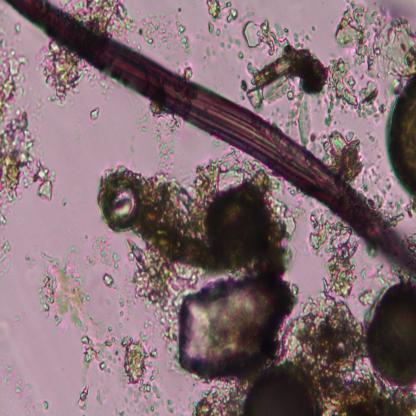Background material: (276, 209, 416, 416), (160, 265, 304, 411), (138, 150, 290, 287), (233, 9, 329, 151), (328, 0, 416, 122), (0, 37, 56, 213), (75, 329, 161, 416), (41, 240, 92, 349), (118, 234, 174, 324), (321, 122, 376, 198), (142, 105, 180, 178), (146, 3, 193, 58), (36, 47, 82, 103), (79, 0, 136, 37), (0, 371, 38, 412), (207, 0, 231, 52), (89, 240, 116, 286), (0, 235, 9, 276), (178, 61, 193, 80), (10, 18, 22, 37), (92, 110, 100, 124), (42, 394, 48, 411)
Diatom: (200, 181, 271, 258), (365, 282, 416, 384), (242, 367, 323, 416), (385, 80, 416, 202), (90, 166, 142, 231)
Microfibre: (8, 0, 416, 272)
